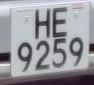2: (34, 38, 53, 74)
5: (52, 36, 69, 73)
9: (16, 39, 35, 75), (68, 35, 86, 71)
E: (51, 5, 71, 42)
H: (32, 5, 52, 43)
